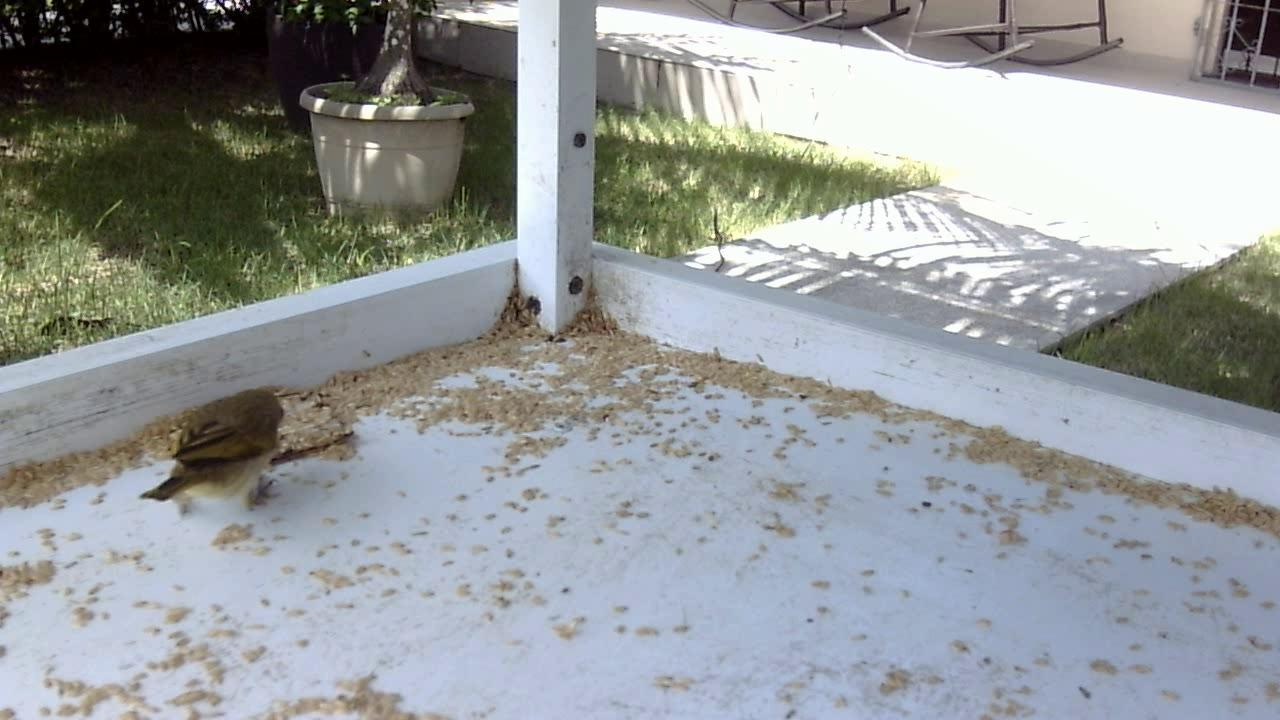canario_do_amazonas: (129, 384, 360, 521)
